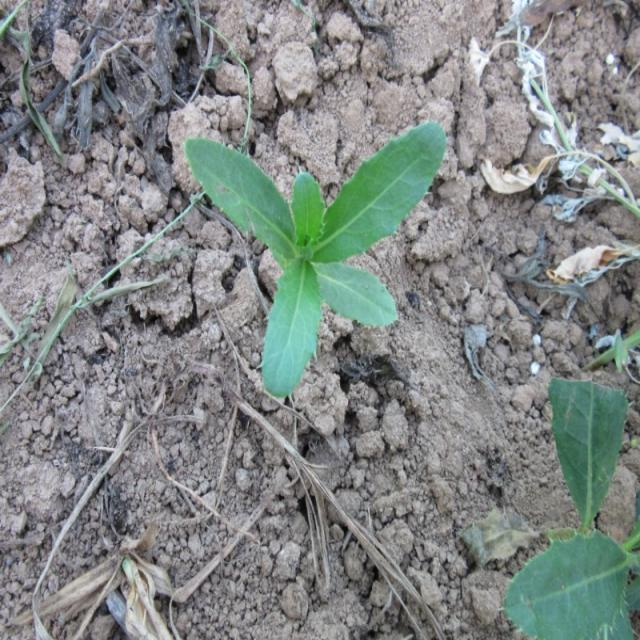cs: (182, 122, 447, 398)
